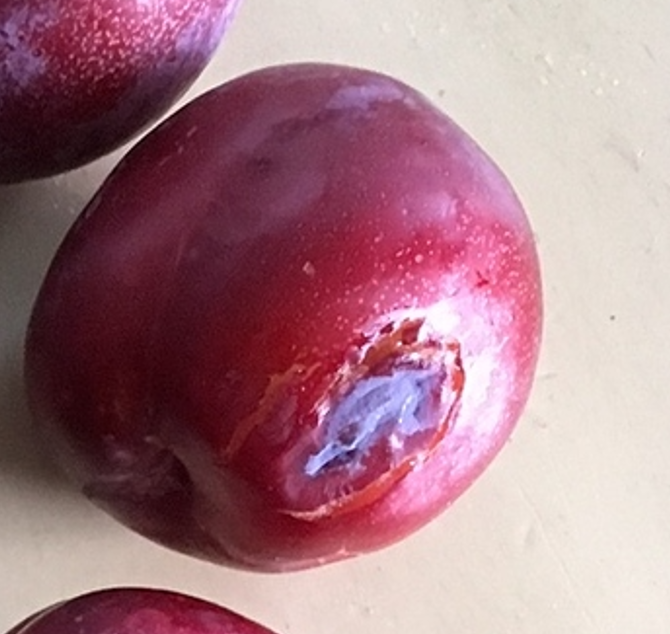plum_C: (23, 63, 543, 575)
